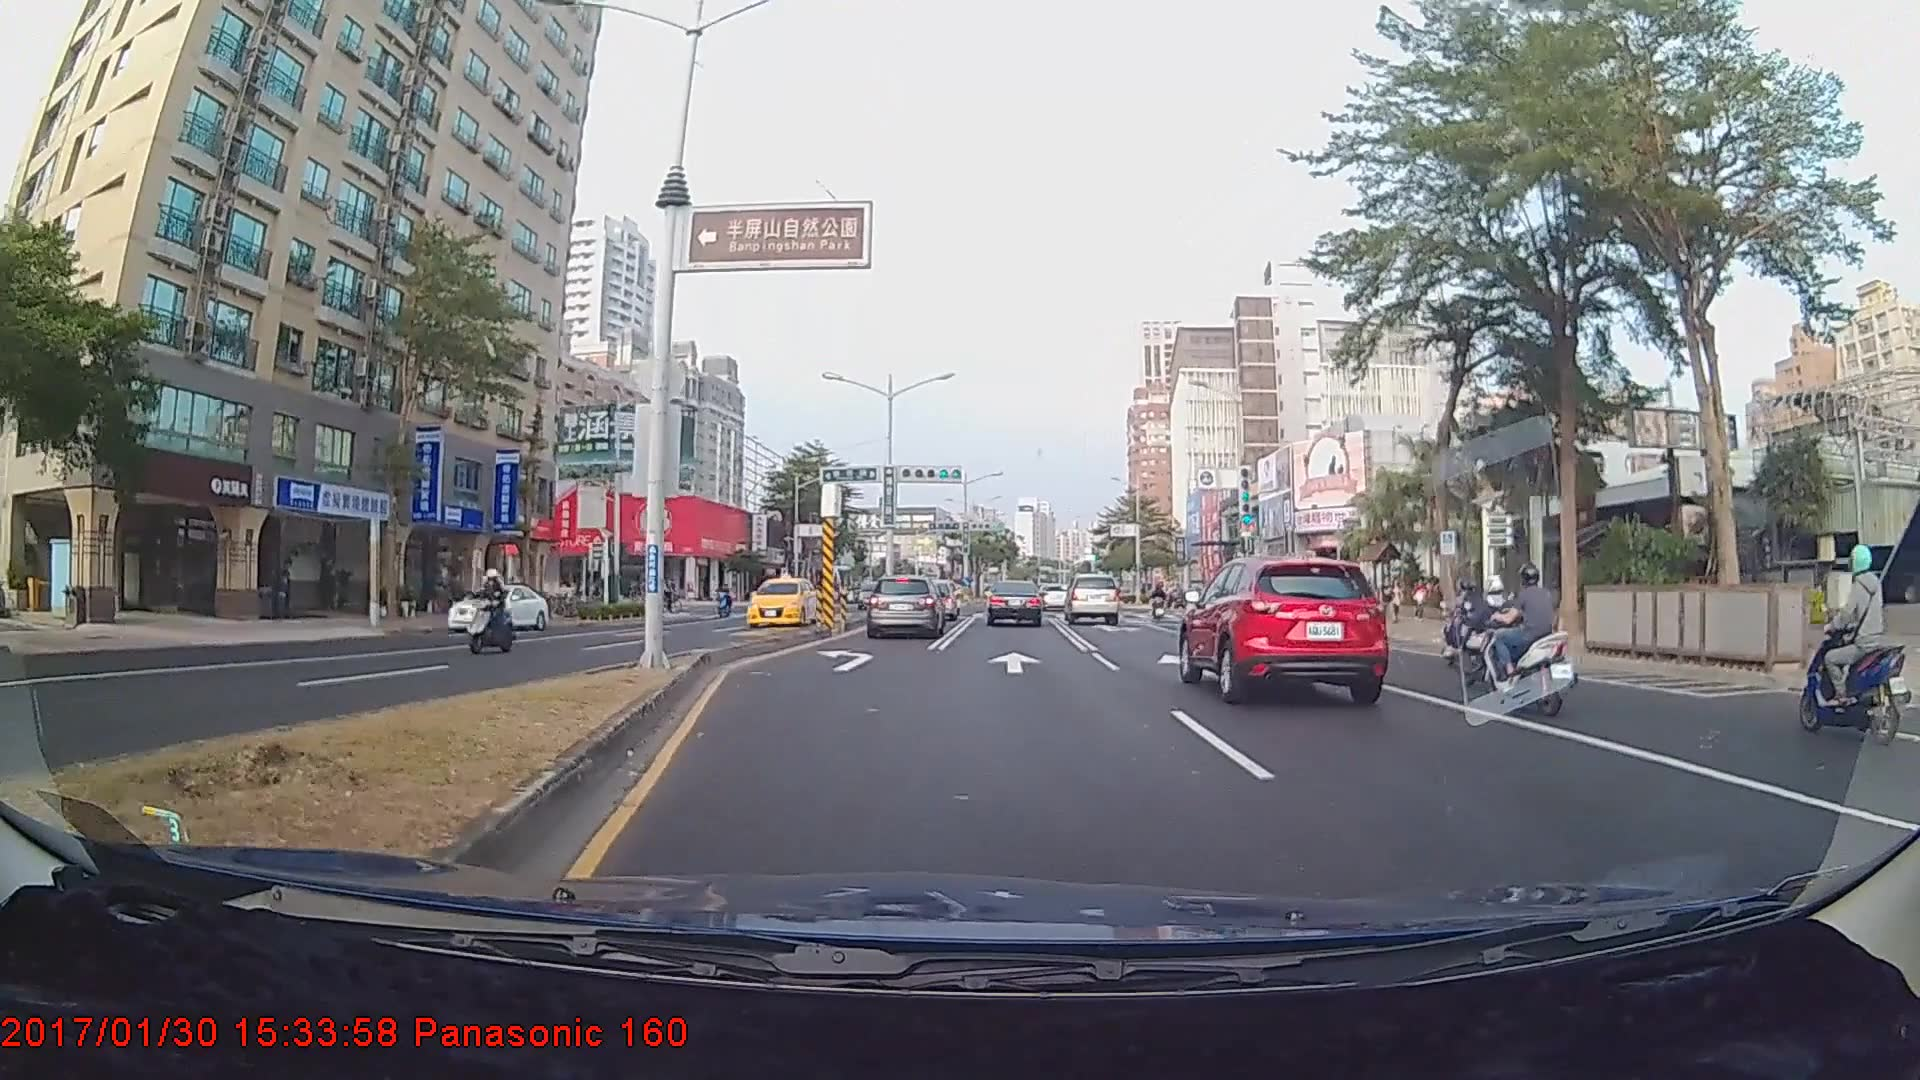rider: (1804, 538, 1914, 752), (1483, 562, 1590, 719), (1437, 570, 1489, 675), (466, 570, 509, 658), (459, 574, 505, 651)
vehicle: (1180, 549, 1389, 700), (864, 575, 943, 639), (448, 582, 548, 632), (742, 577, 817, 629), (984, 579, 1043, 628), (1064, 573, 1120, 625)
